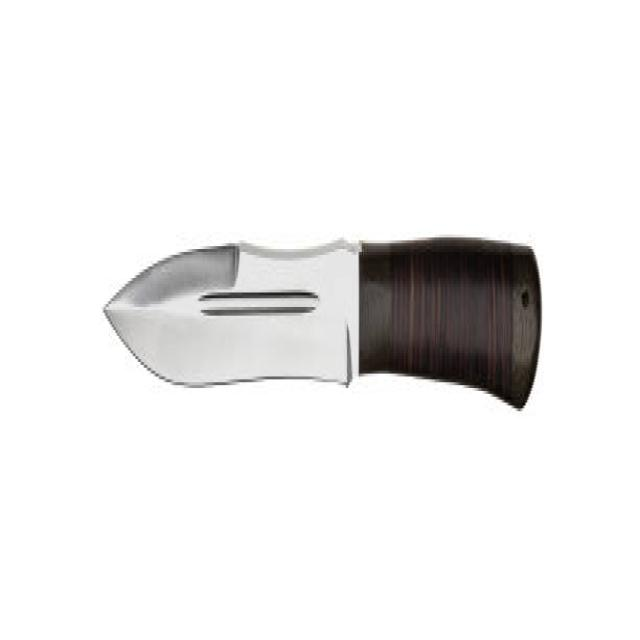knife: (94, 214, 550, 437)
